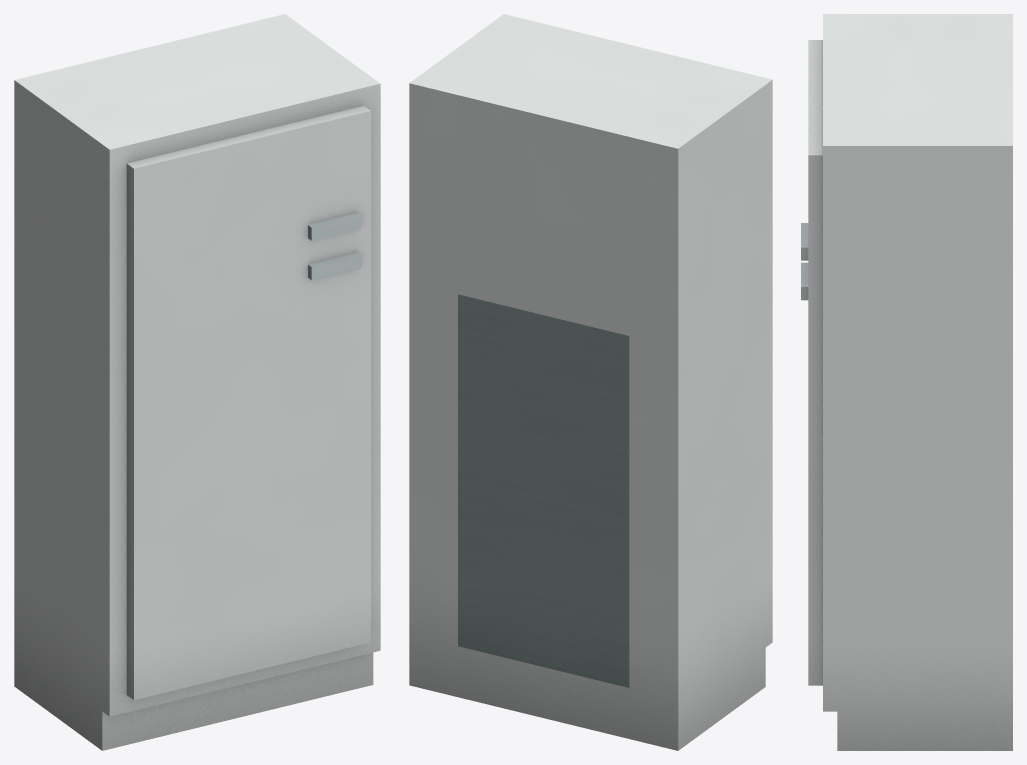
The model's file is fridge.glb.
3 renders of one model, left to right at view 1: azimuth 30°, elevation 25°; view 2: azimuth 150°, elevation 25°; view 3: azimuth 270°, elevation 25°, orthographic.
Parts seen in each view (by area): view 1: fridge; view 2: fridge; view 3: fridge.
Boxes of the visible parts, x1,y1,x2,y2 form: fridge: [14, 14, 380, 750]; fridge: [409, 14, 772, 750]; fridge: [801, 14, 1012, 750].
Size of the model in its own units: 0.86 by 1.84 by 0.5839.
Materials: 4 (4 with a texture image).
